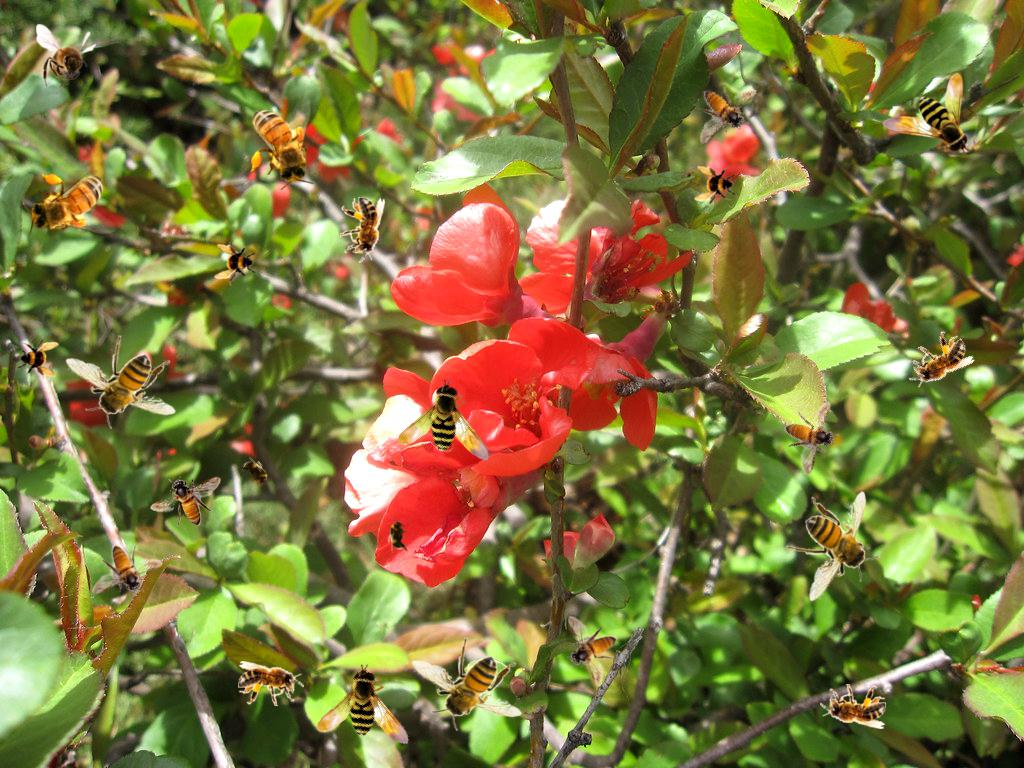Bee: (389, 375, 511, 497), (308, 661, 430, 768), (786, 491, 880, 602), (65, 335, 176, 429), (411, 637, 522, 731), (770, 390, 854, 477), (882, 73, 970, 155), (247, 97, 315, 190), (23, 170, 116, 238), (683, 73, 769, 146), (897, 323, 977, 400), (36, 24, 97, 94), (567, 616, 617, 687), (150, 476, 221, 526), (92, 545, 163, 595), (340, 197, 385, 263), (820, 684, 886, 729), (238, 661, 304, 706), (234, 450, 278, 496), (694, 164, 738, 208), (15, 335, 59, 379), (214, 242, 258, 286), (387, 515, 409, 555)
